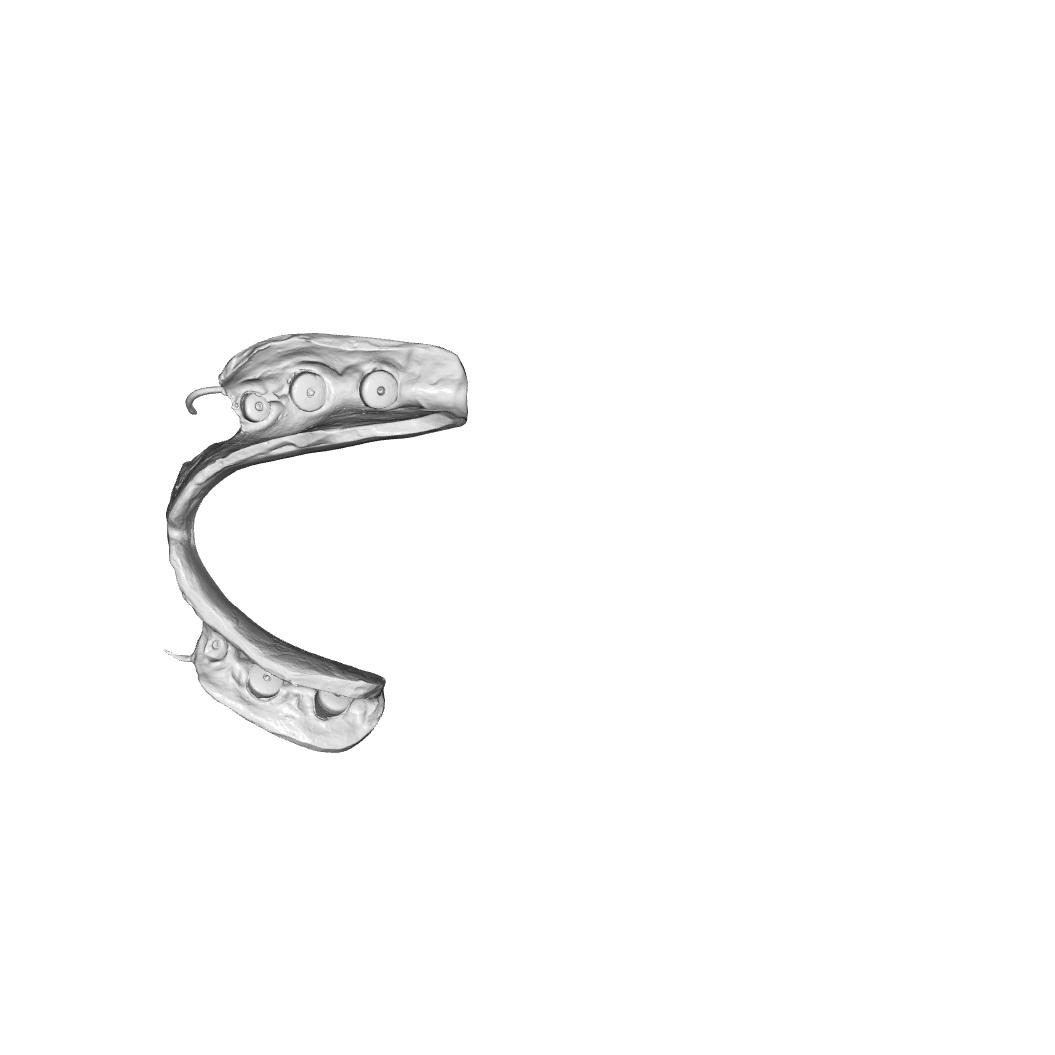implant: (357, 368, 401, 410), (288, 370, 330, 414), (246, 663, 285, 699), (313, 688, 354, 721), (240, 390, 273, 425), (201, 631, 229, 663)
